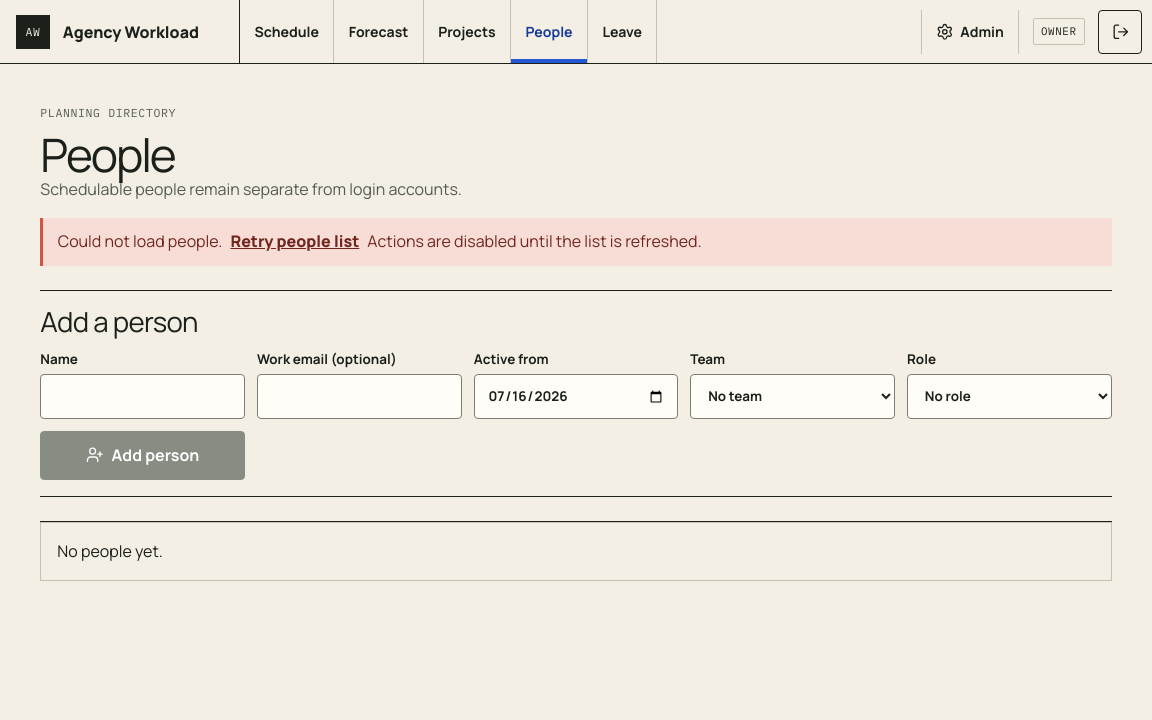
Test: Agency Workload app routes › keeps people mutations blocked after initial failure until retry succeeds
The image size is (1152, 720).
expect the message shows "Could not load people": met, box [58,230,222,252]
expect the button "Add person" is disabled: met, box [40,431,245,480]
Click the button "Retry people list" at (295,242), box [230,230,359,255]
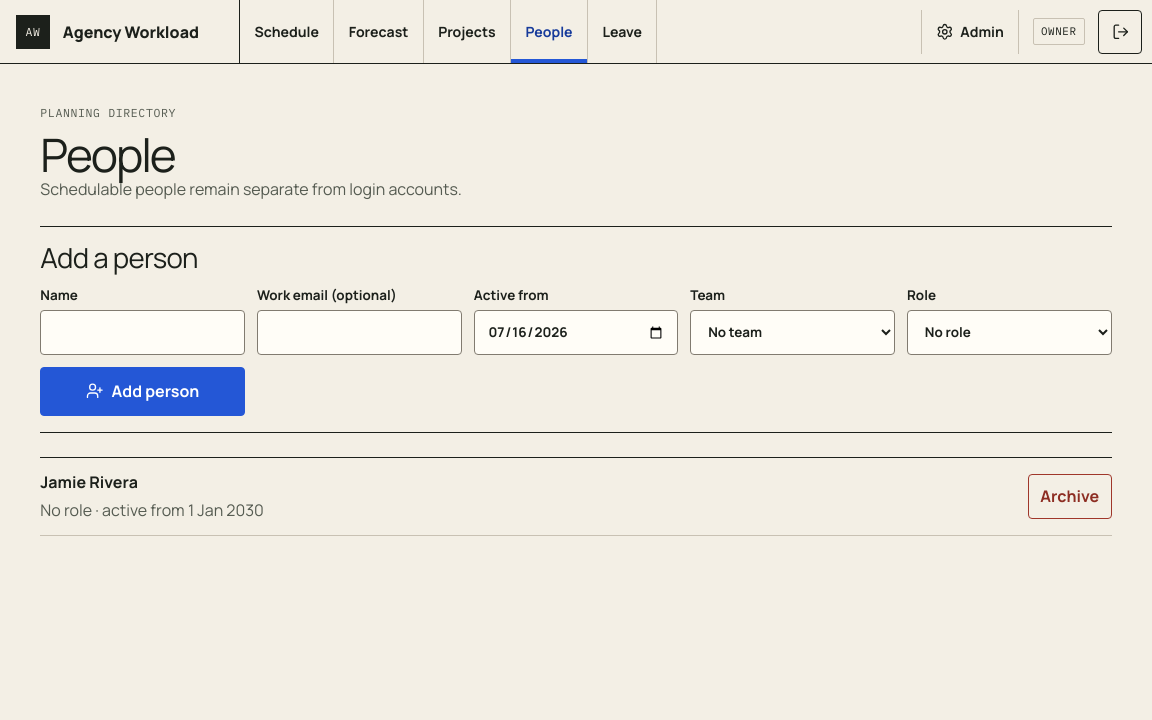
expect the text "Jamie Rivera" is shown: met, box [40,471,138,493]
expect the button "Add person" is enabled: met, box [40,367,245,416]
expect the button with aria-label "Archive Jamie Rivera" is enabled: met, box [1028,474,1112,519]
